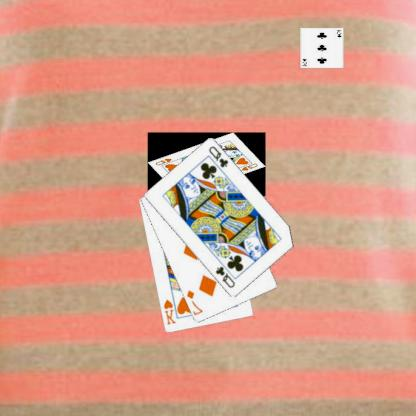7D: (186, 288, 206, 316)
KH: (162, 297, 179, 326)
QC: (207, 144, 232, 169), (215, 264, 238, 289)
